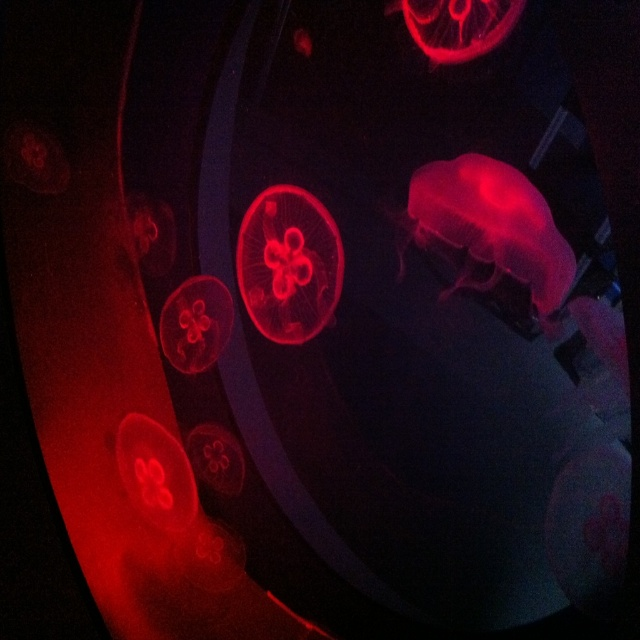Jellyfish: (381, 147, 577, 330), (234, 185, 344, 346), (115, 412, 196, 532), (384, 0, 524, 68), (160, 280, 237, 376), (0, 126, 76, 197), (180, 423, 245, 501), (120, 192, 174, 275)
